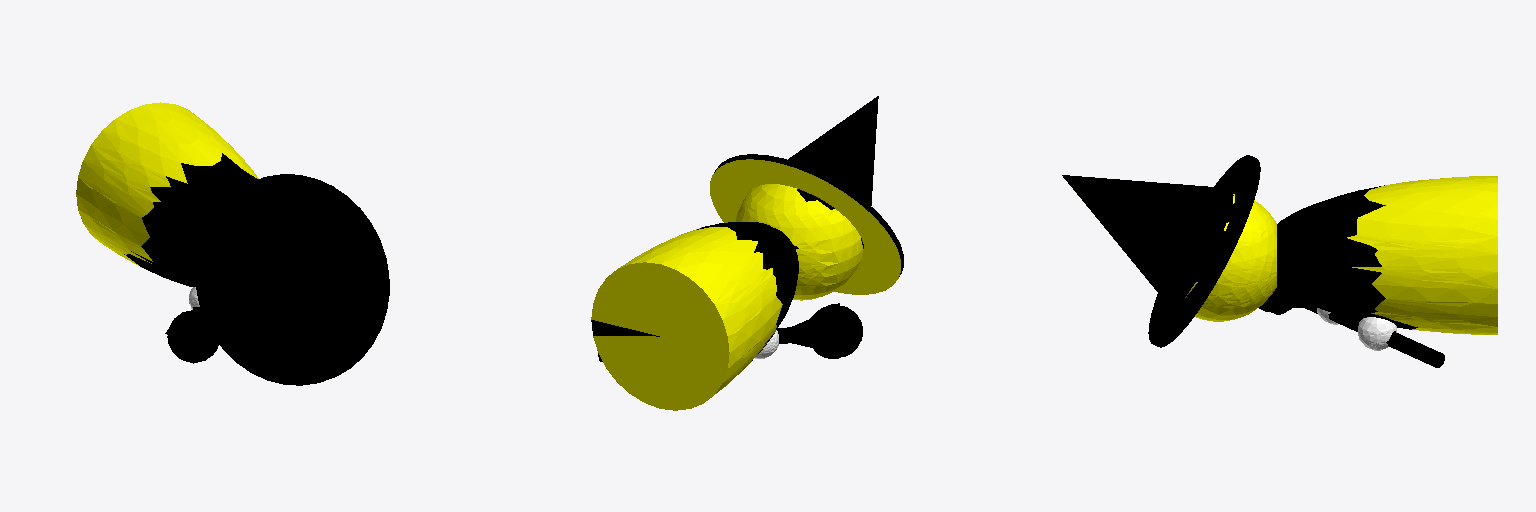
Rendered from YellowPawn.obj.
3 views of the same model, side by side, from view 1: azimuth 30°, elevation 25°; view 2: azimuth 150°, elevation 25°; view 3: azimuth 270°, elevation 25° (orthographic).
Parts seen in each view (by area): view 1: WizardPawn; view 2: WizardPawn; view 3: WizardPawn.
Boxes of the visible parts, <box> form: WizardPawn: <box>76,102,389,385</box>; WizardPawn: <box>591,96,903,410</box>; WizardPawn: <box>1062,155,1497,367</box>.
Bounding box in the file's own units: 14.59 × 13.3 × 29.5.